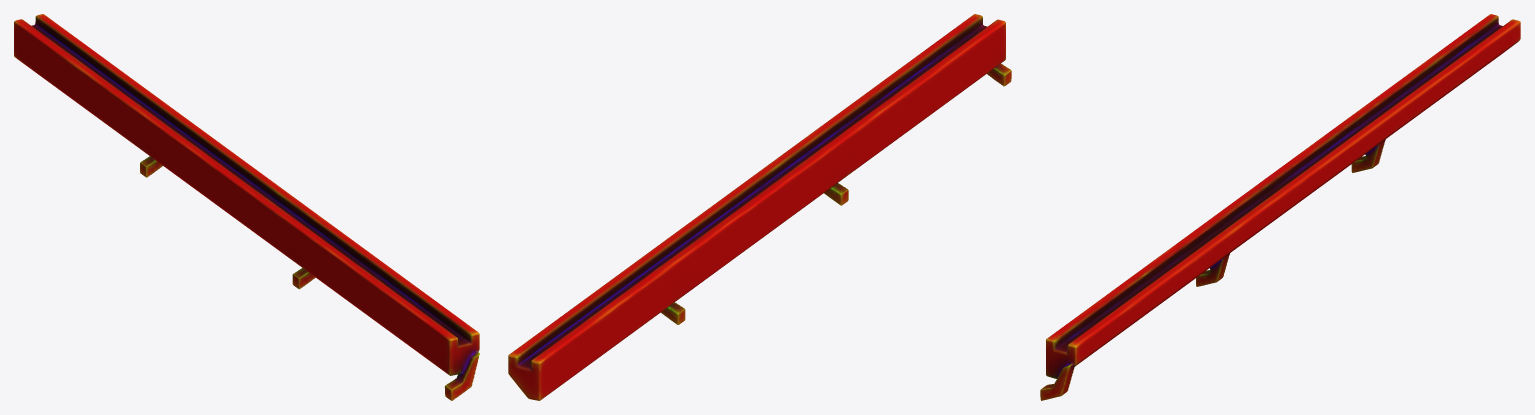
The model's file is RailTrack.fbx.
3 renders of one model, left to right at view 1: azimuth 30°, elevation 25°; view 2: azimuth 150°, elevation 25°; view 3: azimuth 330°, elevation 25°, orthographic. The views are drawn at different scales.
Parts seen in each view (by area): view 1: transform1; view 2: transform1; view 3: transform1.
Boxes of the visible parts, left/top/right/bottom form: transform1: left=14, top=14, right=479, bottom=400; transform1: left=508, top=14, right=1011, bottom=400; transform1: left=1040, top=14, right=1520, bottom=400.
Size of the model in its own units: 42.56 by 1008 by 74.34.
